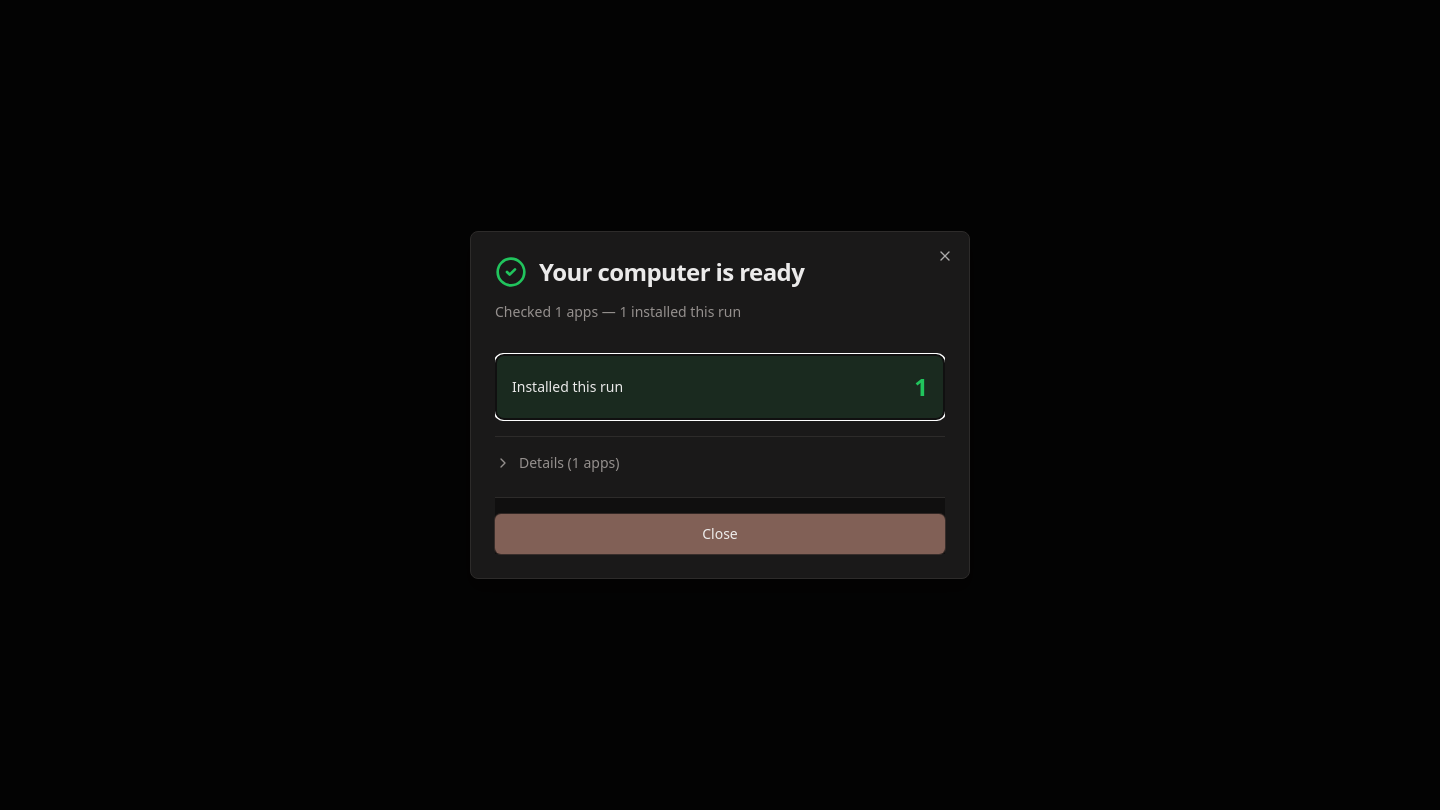
Test: Apply Flow UX Contracts › Contract 4: Success opens modal with technical details collapsed › can expand technical details after success
The image size is (1440, 810).
What coordinates should you click on to do the following:
click the button "Details (1 apps)"
I would click on:
 (569, 462)
Its box is [495,453,945,473].
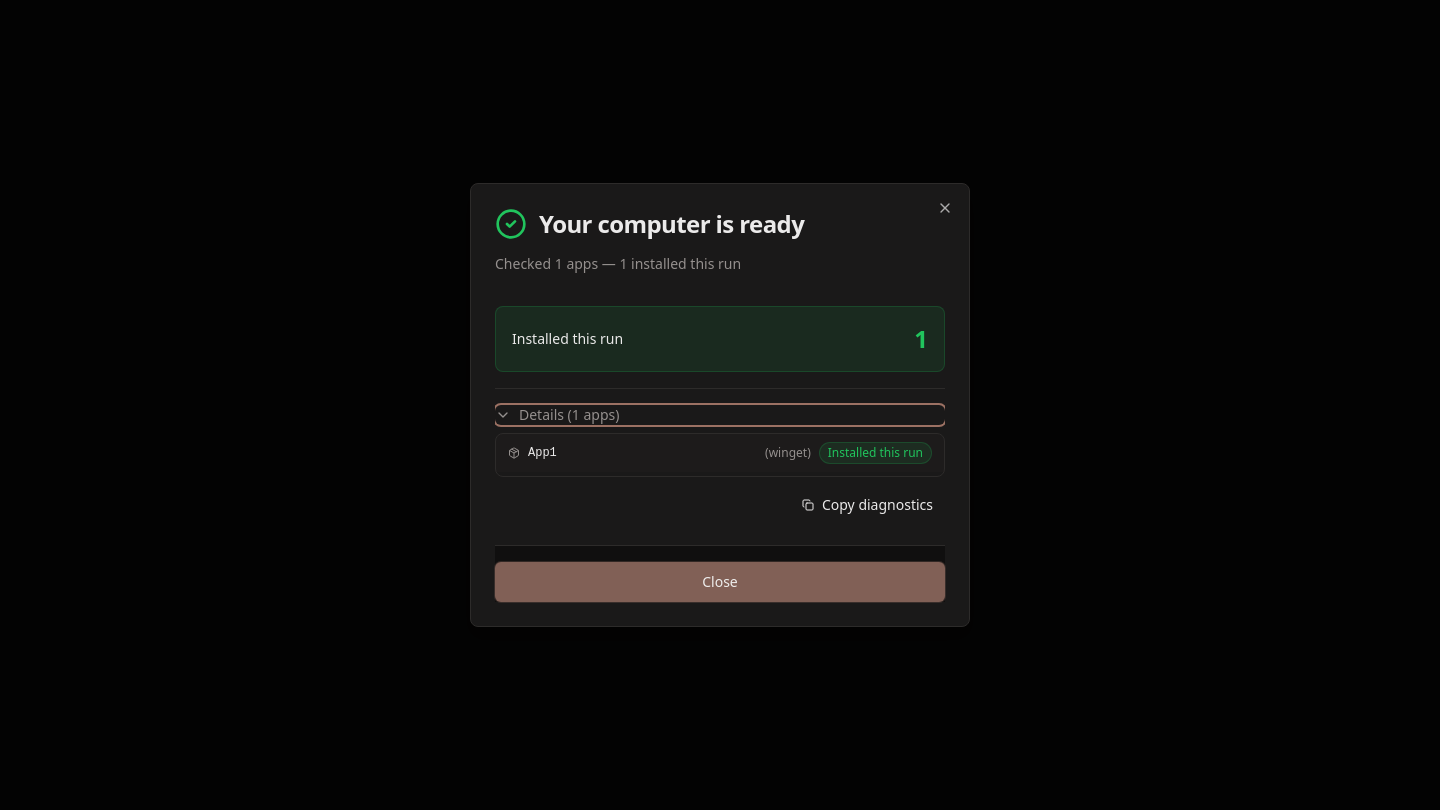
expect the button "Details (1 apps)" is expanded: met, box [495,405,945,425]
expect the text "App1" is shown: met, box [528,446,557,460]
